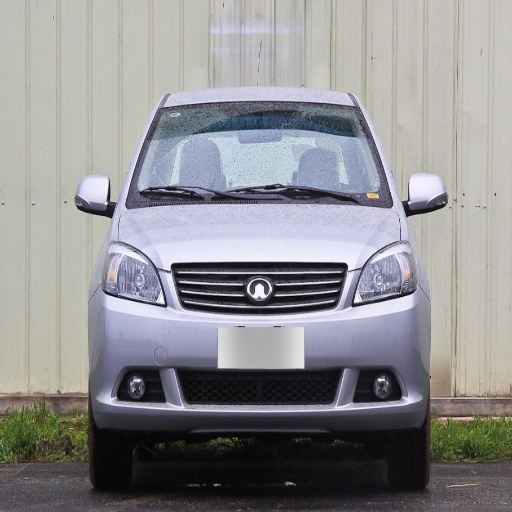front_bumper: (95, 268, 428, 427)
front_right_light: (104, 243, 165, 306)
hood: (118, 204, 400, 313)
left_mirror: (404, 173, 448, 216)
